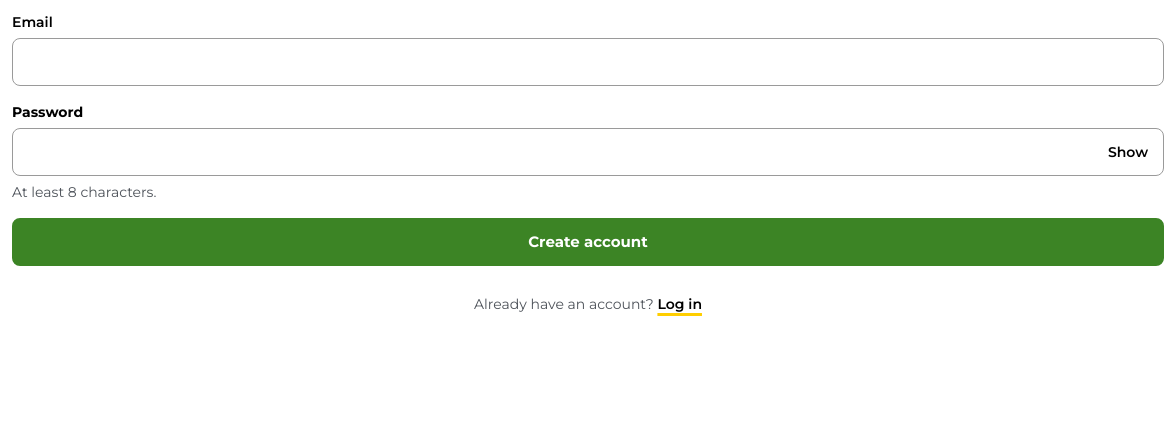
it: register and reset fields › register surfaces the server's specific validation message
The image size is (1176, 421).
In the field labelled "Email": (588, 62) x1=12 y1=38 x2=1164 y2=86, type "a@b.co"
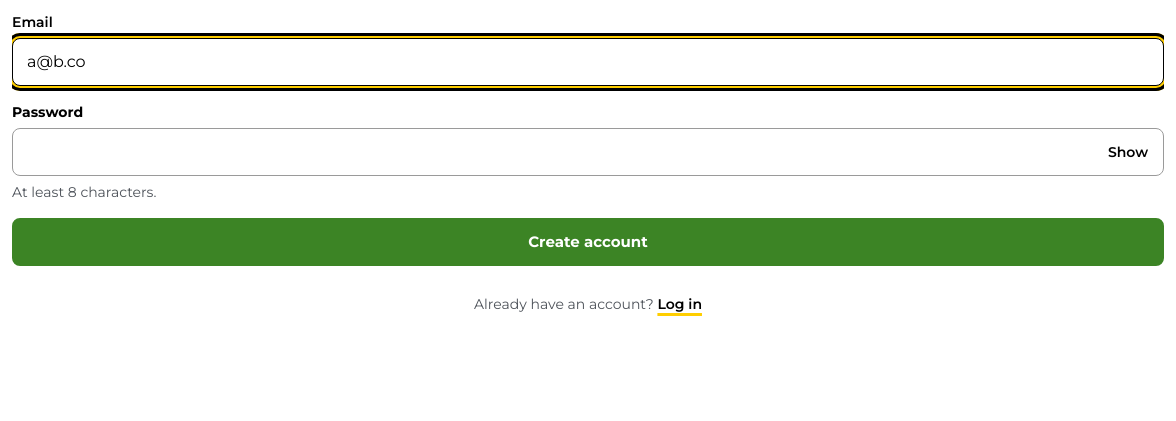
In the password field labelled "Password": (588, 152) x1=12 y1=128 x2=1164 y2=176, type "longenough1"
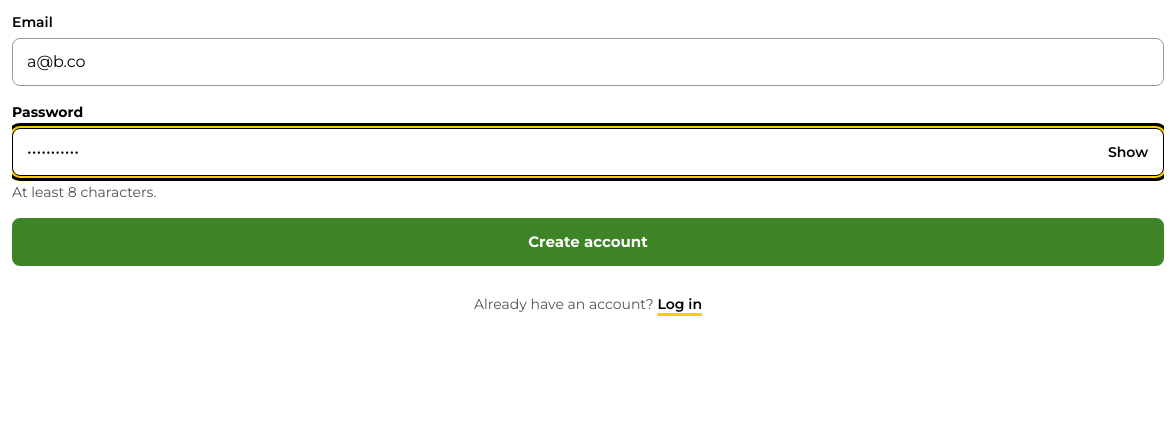
Click the button "Create account": (588, 242) x1=12 y1=218 x2=1164 y2=266
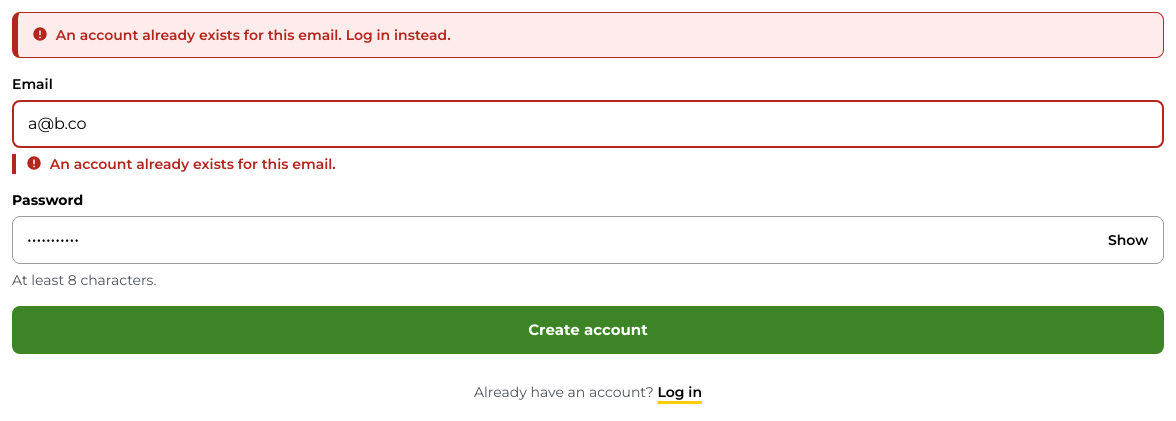
Check: the text "An account already exists for this email. Log in instead." is shown, box x1=12 y1=12 x2=1164 y2=58
